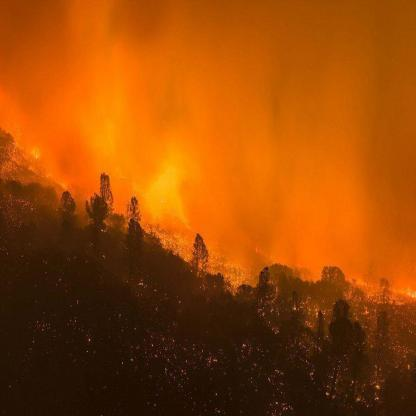fire: (5, 107, 199, 235), (208, 233, 412, 314)
